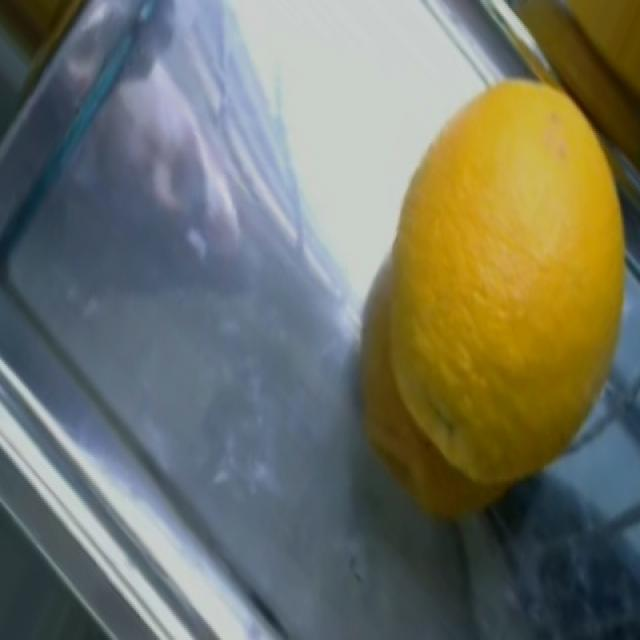Fruit: (376, 53, 636, 396), (489, 2, 640, 127), (1, 0, 125, 87)
